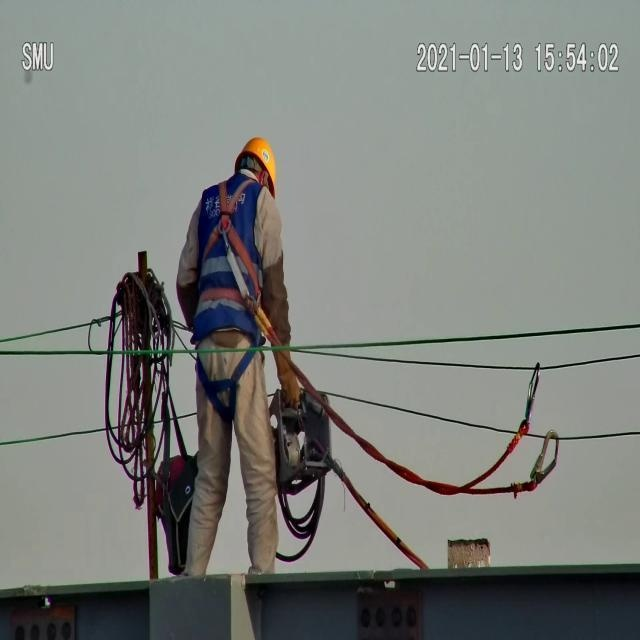Arnes_seguridad: (195, 170, 269, 346)
